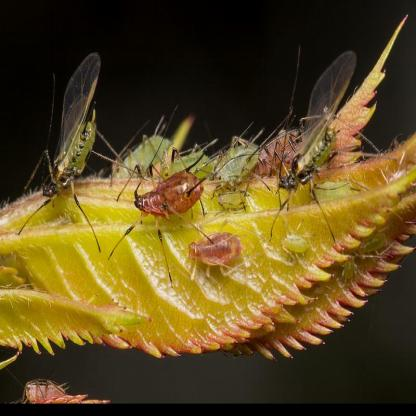aphid: (22, 48, 116, 233), (263, 48, 360, 223), (122, 150, 208, 230), (109, 111, 176, 179), (205, 130, 265, 202), (188, 220, 243, 292), (161, 122, 223, 176)
